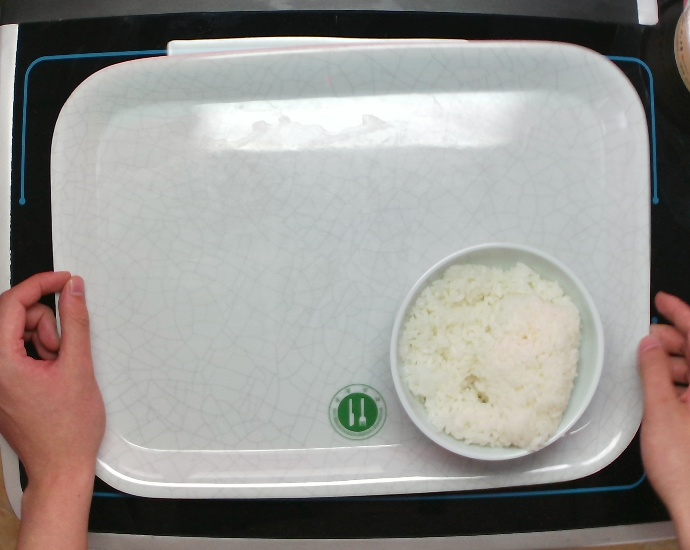JYsf-Fan_Wan: (386, 239, 607, 464)
